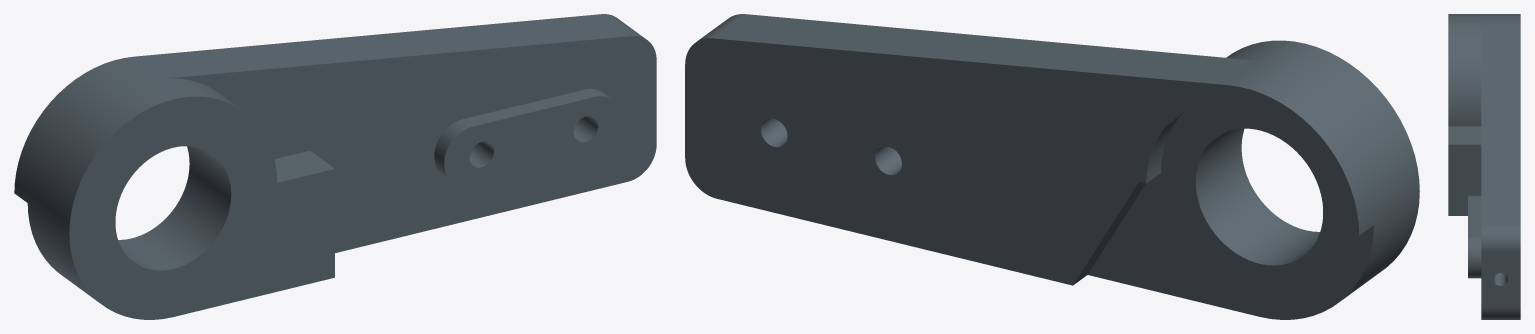
Rendered from dropout_right.glb.
3 renders of one model, left to right at view 1: azimuth 30°, elevation 25°; view 2: azimuth 150°, elevation 25°; view 3: azimuth 270°, elevation 25°, orthographic. The views are drawn at different scales.
Visible parts, largest first — view 1: dropout_right; view 2: dropout_right; view 3: dropout_right.
Part boxes in pixels (bbox=[...]): dropout_right: bbox=[14, 14, 656, 319]; dropout_right: bbox=[685, 14, 1419, 319]; dropout_right: bbox=[1448, 14, 1520, 319].
Bounding box in the file's own units: 106 × 36 × 16.5.
